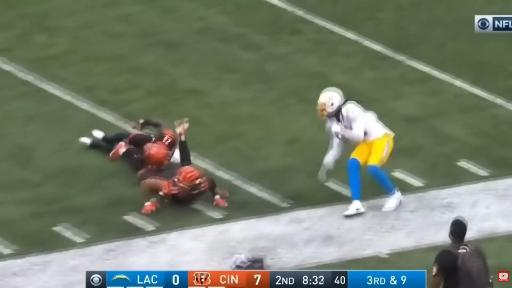Helmet: (317, 88, 344, 118), (144, 143, 169, 167), (176, 166, 203, 185)
Jersey: (326, 102, 393, 141), (161, 178, 207, 202), (128, 130, 177, 151), (154, 130, 176, 151)
Player: (317, 88, 402, 216), (141, 124, 227, 213), (80, 120, 179, 163), (121, 143, 177, 180)
